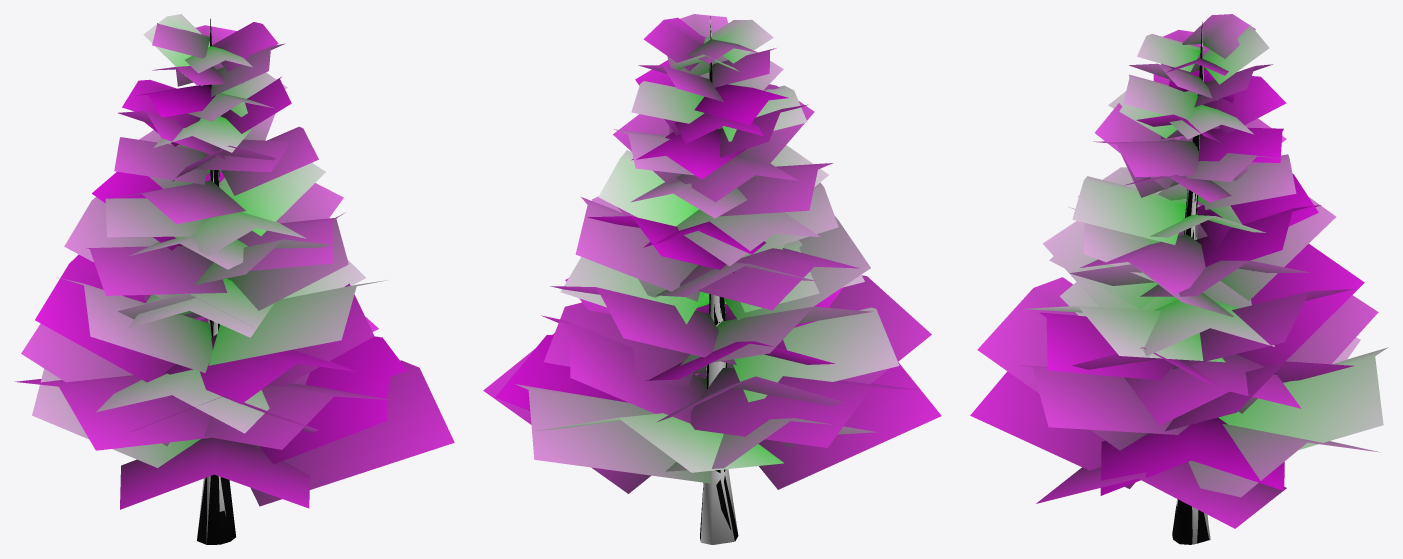
File: fir_01_10m_a.dae
3 renders of one model, left to right at view 1: azimuth 30°, elevation 25°; view 2: azimuth 150°, elevation 25°; view 3: azimuth 270°, elevation 25°, orthographic.
Visible parts, largest first — view 1: fir128, colmesh-1; view 2: fir128, colmesh-1; view 3: fir128, colmesh-1.
Part boxes in pixels (x1,y1,x2,y2): fir128: [14, 14, 454, 544]; colmesh-1: [197, 17, 226, 542]; fir128: [483, 14, 941, 542]; colmesh-1: [700, 19, 737, 544]; fir128: [970, 14, 1388, 544]; colmesh-1: [1176, 28, 1210, 544].
Size of the model in its own units: 7.68 by 7.36 by 10.14.
